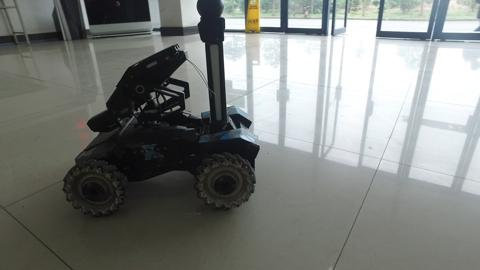chariot: (62, 1, 261, 215)
